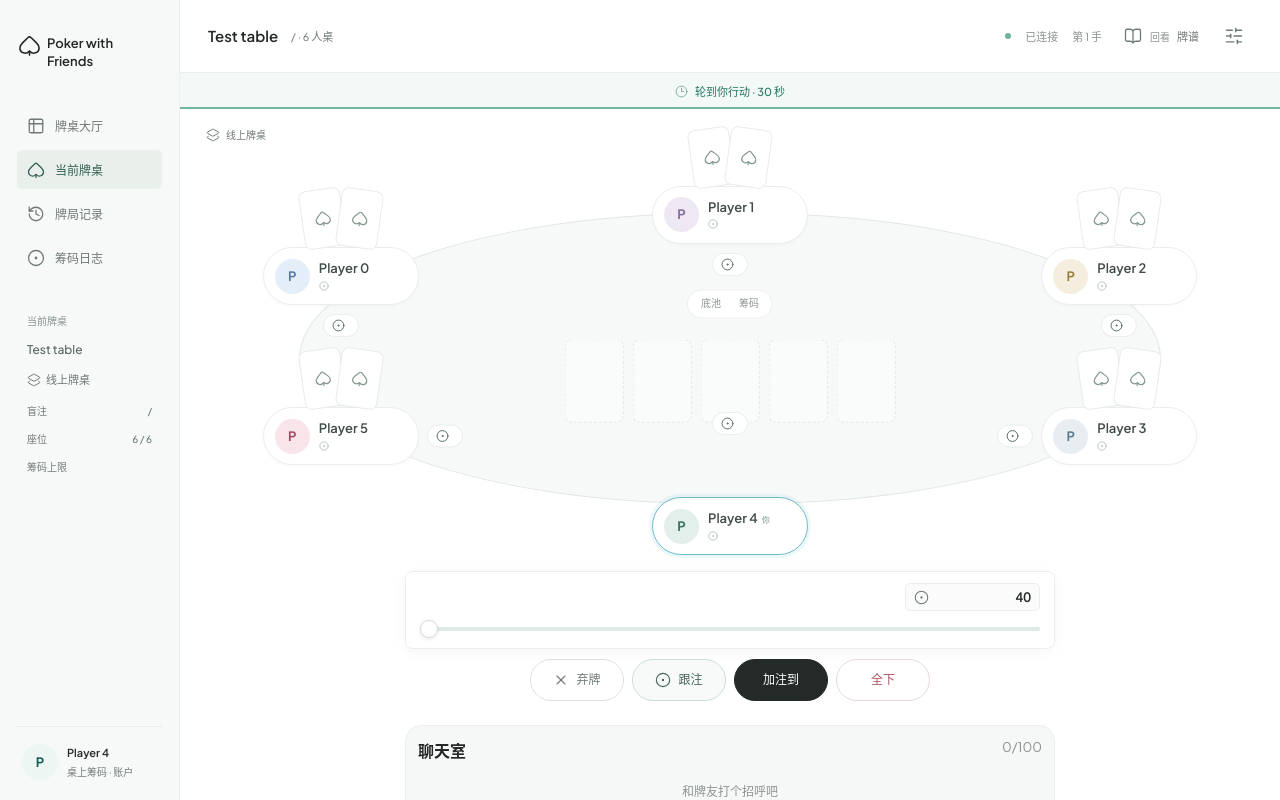
Scenario: table interaction › keeps hand history open when the next hand begins
Click the button with aria-label "查看牌谱" at (1162, 36), box [1114,19,1209,53]
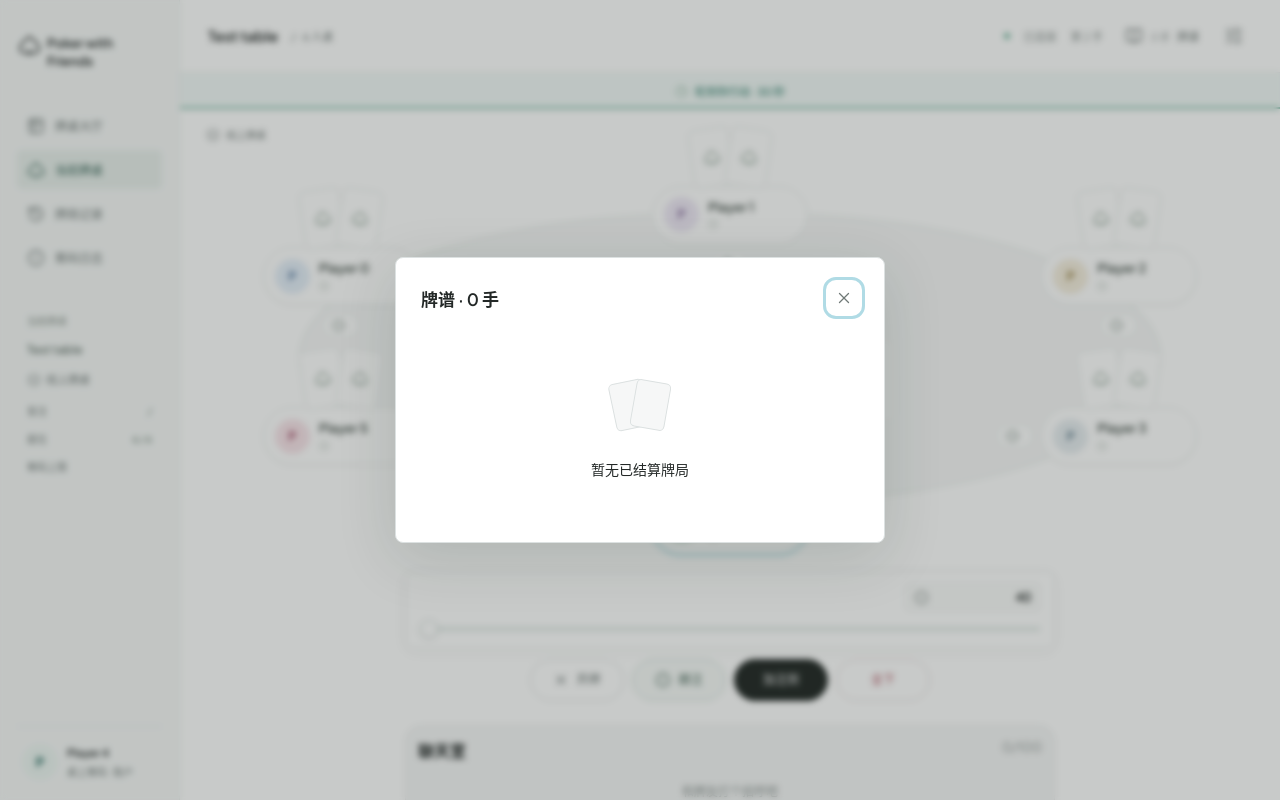
Expected: the dialog is shown, [395,257,885,543]
